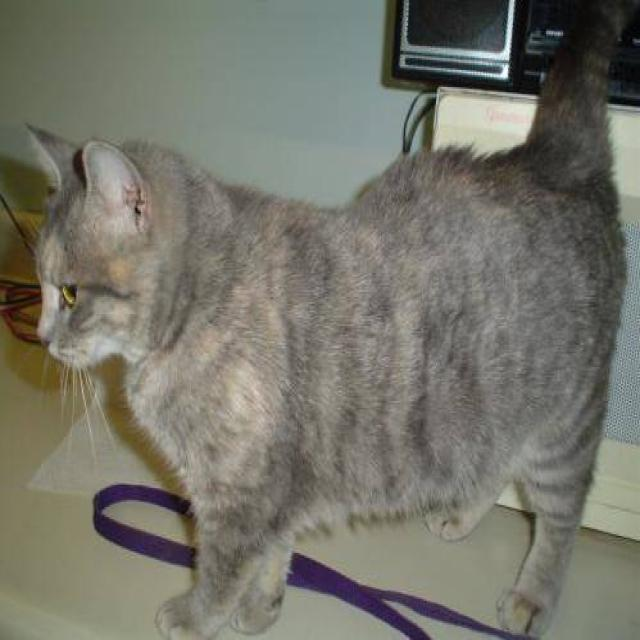cat: (1, 0, 636, 638)
